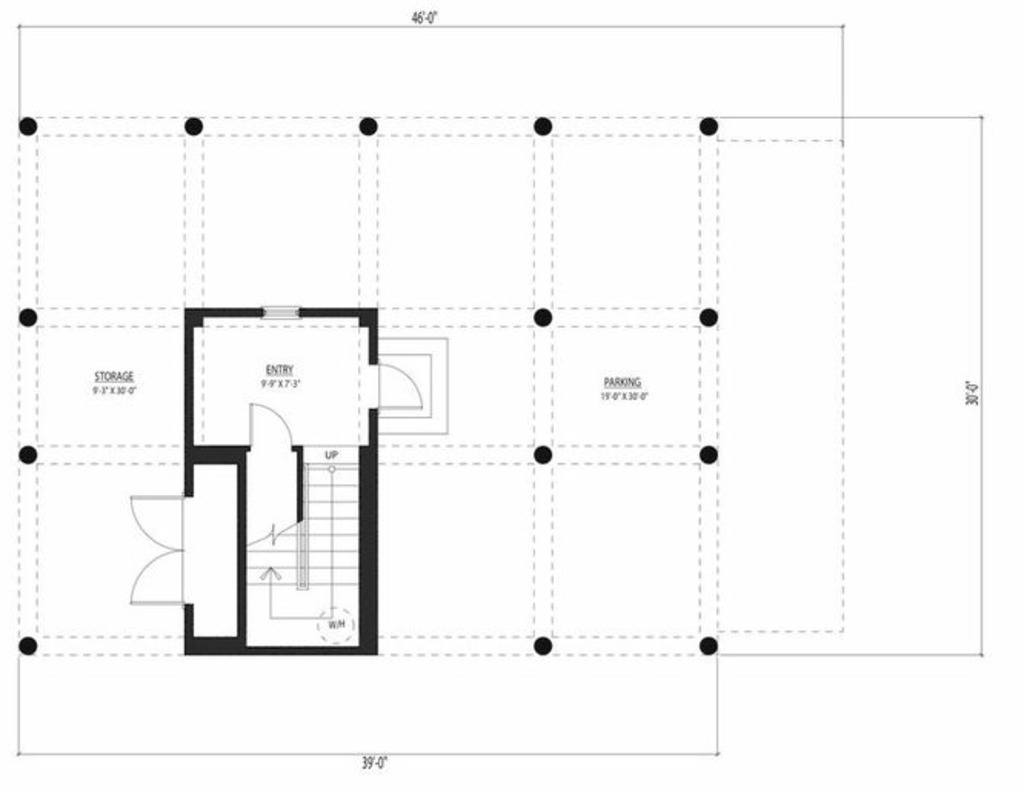door: (128, 494, 186, 607), (372, 361, 426, 413), (242, 401, 294, 452)
stairs: (247, 446, 363, 652)
windows: (257, 304, 307, 324)
